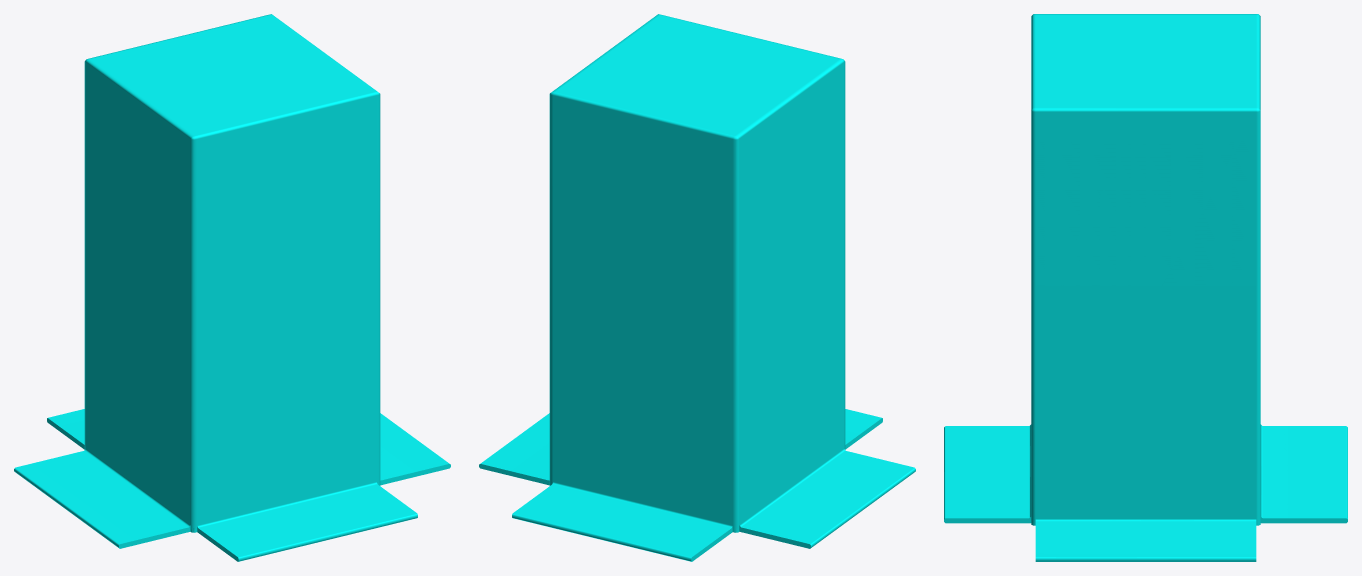
File: Tall_Splayed_Box_Low.fbx
3 views of the same model, side by side, from view 1: azimuth 30°, elevation 25°; view 2: azimuth 150°, elevation 25°; view 3: azimuth 270°, elevation 25° (orthographic). The views are drawn at different scales.
Parts seen in each view (by area): view 1: Tall_Splayed_Box_low; view 2: Tall_Splayed_Box_low; view 3: Tall_Splayed_Box_low.
Part boxes in pixels (x1,y1,x2,y2): Tall_Splayed_Box_low: (14, 14, 450, 561); Tall_Splayed_Box_low: (479, 14, 915, 561); Tall_Splayed_Box_low: (944, 14, 1347, 561).
Bounding box in the file's own units: 440 × 500 × 440.
